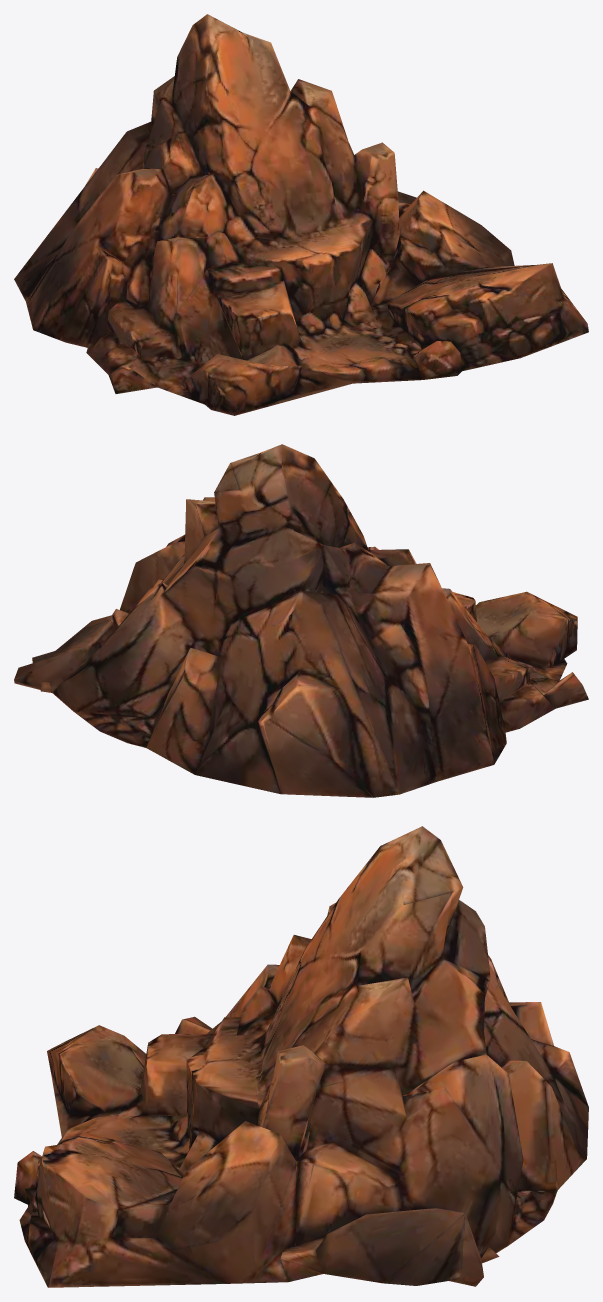
Rendered from laterite-pile.glb.
3 views of the same model, one above another, from view 1: azimuth 30°, elevation 25°; view 2: azimuth 150°, elevation 25°; view 3: azimuth 270°, elevation 25° (orthographic). The views are drawn at different scales.
Visible parts, largest first — view 1: Mesh_0; view 2: Mesh_0; view 3: Mesh_0.
Boxes of the visible parts, x1,y1,x2,y2 form: Mesh_0: (14,14,588,415); Mesh_0: (14,444,588,797); Mesh_0: (14,826,588,1287).
Size of the model in its own units: 1.5 by 0.8883 by 1.43.
1 material, 1 textured.
